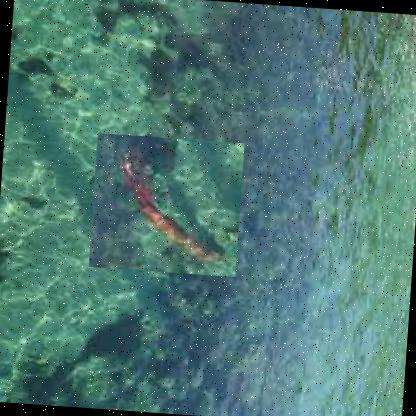colossal_squid: (88, 131, 244, 276)
